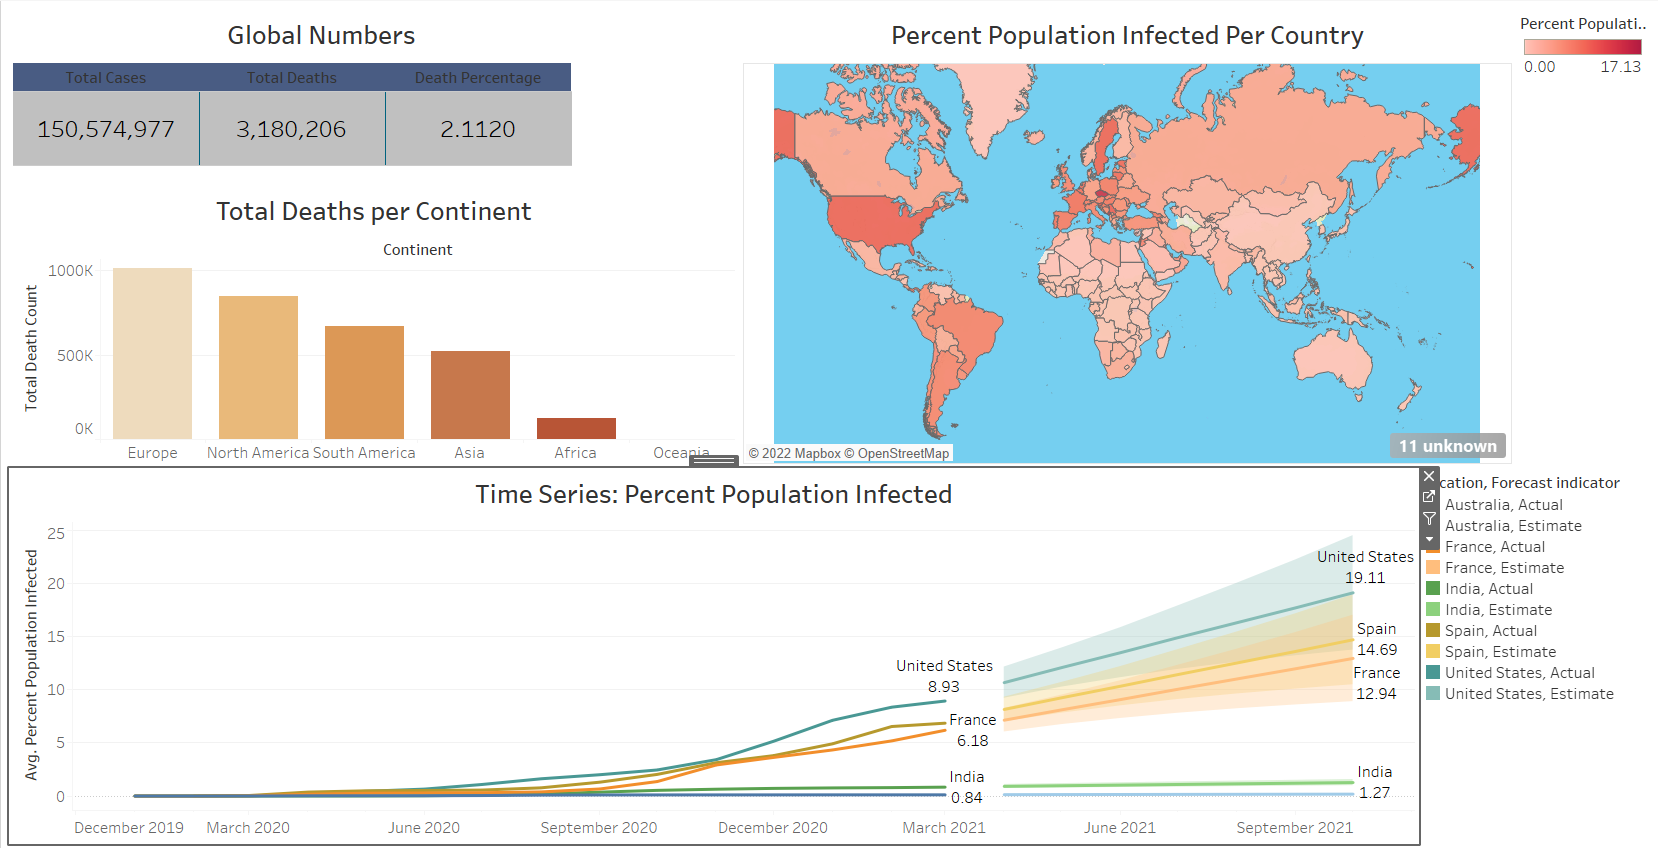

Layout of this report page (visuals, bound fields, positions):
{"tool":"tableau","page":{"name":"Dashboard 1","canvas":[1000,1000],"units":"permille","ordinal":0},"visuals":[{"type":"worksheet","title":"Sheet 1","mark":"Automatic","box":[5.1,9.4,440,206.8]},{"type":"worksheet","title":"Sheet 3","mark":"Automatic","box":[445.1,9.4,468.7,539.4]},{"type":"legend","title":"Sheet 3","param":"[federated.1moraaz159aato1dfc4n11hgbw3b].[sum:PercentPopulationInfected:qk]","box":[913.8,9.4,81.1,90.5]},{"type":"worksheet","title":"Sheet 2","mark":"Automatic","rows":["TotalDeathCount"],"cols":["location"],"box":[5.1,216.2,440,332.6]},{"type":"worksheet","title":"Sheet 4","mark":"Automatic","rows":["PercentPopulationInfected"],"cols":["date"],"box":[5.1,548.8,850.2,441.8]},{"type":"legend","title":"Sheet 4","param":"[federated.0pkmp8z0az2msr1d0w66n1pd4pfi].[none:Location:nk]\n[federated.0pkmp8z0a","box":[855.4,548.8,139.5,441.8]}]}

Visuals, with their boxes on the dashboard's canvas, which has no fixed pixel size, in thousandths of its width and height (x1, y1, x2, y2). These are canvas units, not pixel positions in the 1658x848 screenshot, which may show the page scaled, cropped or inside an application window:
"Sheet 1" worksheet: locate(5, 9, 445, 216)
"Sheet 3" worksheet: locate(445, 9, 914, 549)
"Sheet 3" legend: locate(914, 9, 995, 100)
"Sheet 2" worksheet: locate(5, 216, 445, 549)
"Sheet 4" worksheet: locate(5, 549, 855, 991)
"Sheet 4" legend: locate(855, 549, 995, 991)
